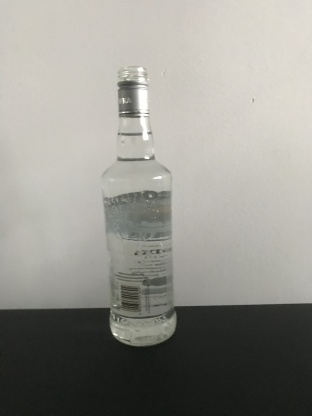nakretka: (115, 65, 150, 118)
